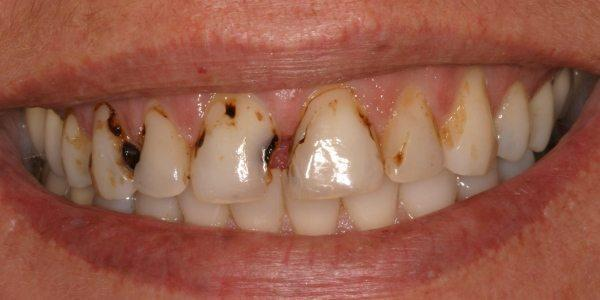cavity: (292, 87, 385, 199), (192, 94, 277, 200), (384, 86, 446, 183), (441, 71, 498, 173), (140, 102, 190, 198), (88, 106, 139, 197), (284, 168, 342, 239), (233, 163, 288, 234), (343, 171, 402, 231), (494, 78, 532, 160), (59, 115, 96, 186), (183, 175, 226, 226), (44, 108, 69, 178), (133, 190, 181, 224), (96, 183, 137, 215), (24, 105, 47, 160), (458, 167, 497, 198), (39, 166, 67, 198), (68, 179, 94, 207)
normal: (402, 166, 459, 222), (531, 79, 554, 150), (495, 144, 536, 181), (551, 70, 570, 115)
